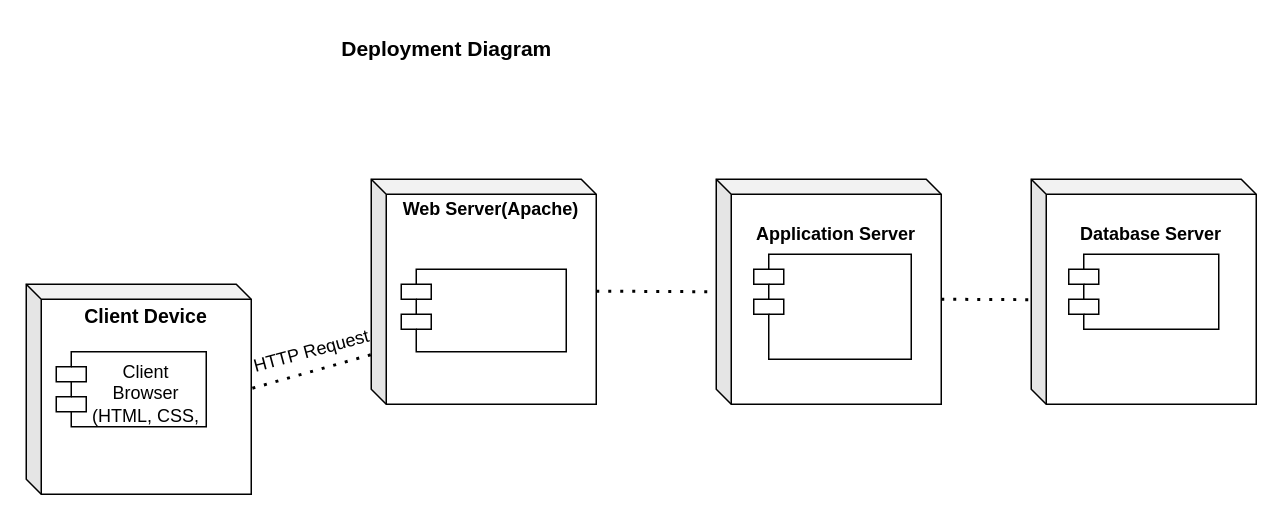
The diagram is 1283 pixels wide and 521 high, and some of its shapes have lost their labels. The shapes that lost their labels are listed below. From the top down, each one's box as (x1, y1, x2, y2) in pixels, then its label:
(400, 268, 566, 352): Django and Python
(752, 253, 911, 359): Django and Python (Llama Parse and PDFPlumber)
(1067, 253, 1219, 329): MySql
